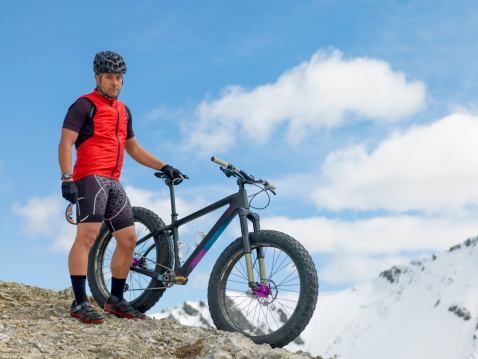em pe: (60, 41, 166, 303)
